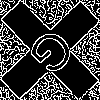G: (25, 25, 85, 85)
